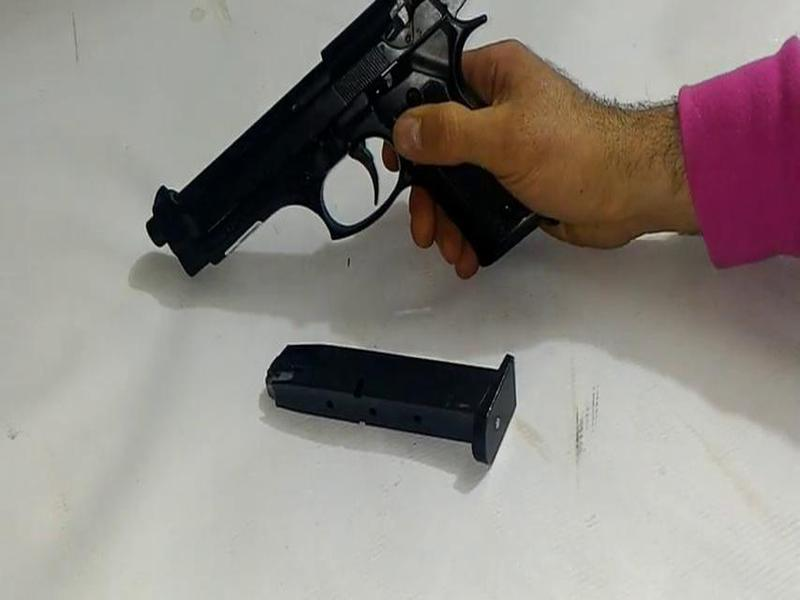Pistola: (133, 1, 576, 304)
